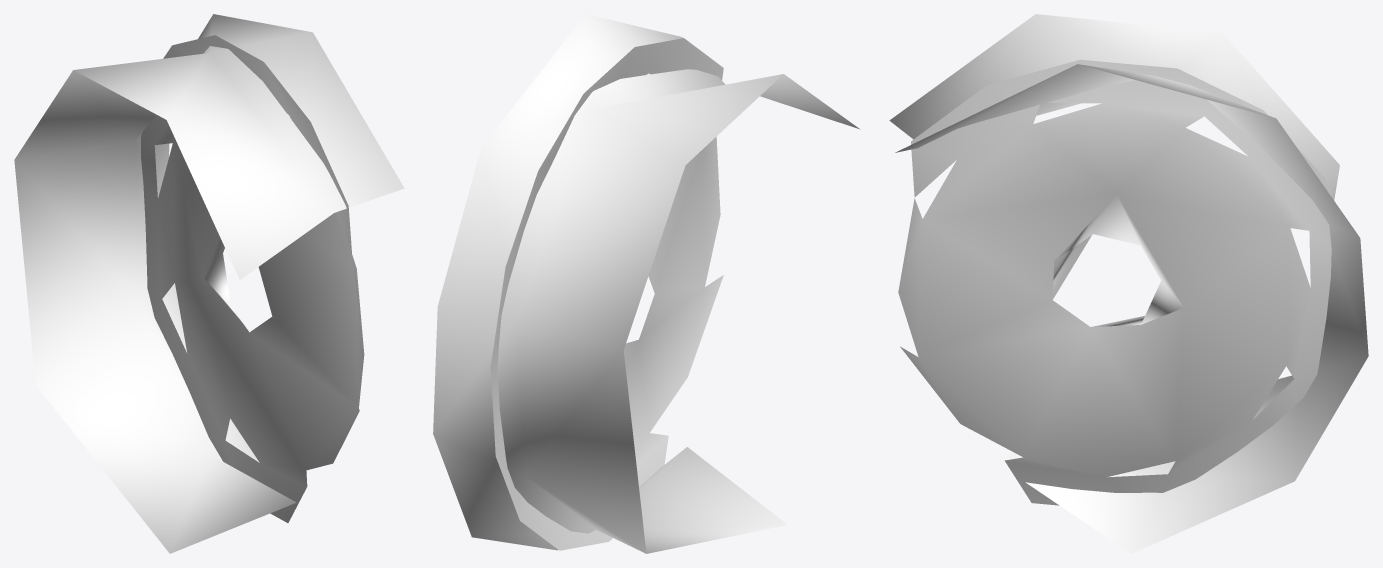
The picture shows the model from 3 angles, left to right: view 1: azimuth 30°, elevation 25°; view 2: azimuth 150°, elevation 25°; view 3: azimuth 270°, elevation 25°; orthographic projection. The views are drawn at different scales.
Bounding box in the file's own units: 0.1418 × 0.3965 × 0.3516.
1 material, 1 textured.
